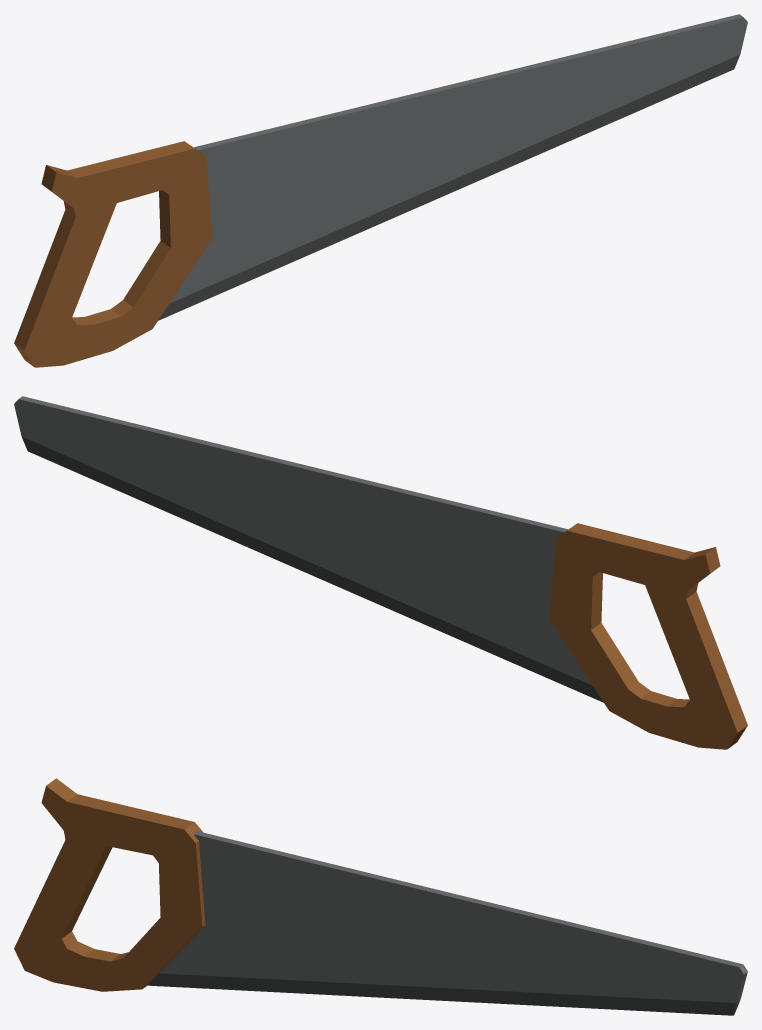
The model's file is SM_Props_Farm_Tool_PruningSaw.fbx.
The picture shows the model from 3 angles, top to bottom: view 1: azimuth 30°, elevation 25°; view 2: azimuth 150°, elevation 25°; view 3: azimuth 330°, elevation 25°; orthographic projection.
Visible parts, largest first — view 1: SM_Props_Farm_Tool_PruningSaw; view 2: SM_Props_Farm_Tool_PruningSaw; view 3: SM_Props_Farm_Tool_PruningSaw.
Part boxes in pixels (bbox=[...]): SM_Props_Farm_Tool_PruningSaw: bbox=[14, 14, 747, 367]; SM_Props_Farm_Tool_PruningSaw: bbox=[14, 396, 747, 749]; SM_Props_Farm_Tool_PruningSaw: bbox=[14, 778, 747, 1015].
Size of the model in its own units: 113 by 28.99 by 2.8.
